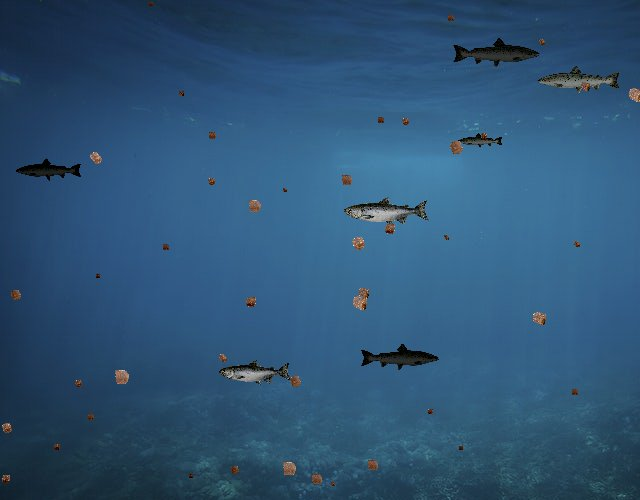Fish: (452, 37, 542, 69), (536, 64, 622, 95), (344, 196, 430, 227), (359, 342, 440, 371), (219, 360, 292, 386), (16, 157, 84, 182), (458, 132, 505, 149)
Pellet: (106, 362, 136, 392), (241, 193, 268, 220), (240, 291, 262, 313), (0, 417, 18, 439), (373, 113, 388, 127), (175, 88, 188, 101)
